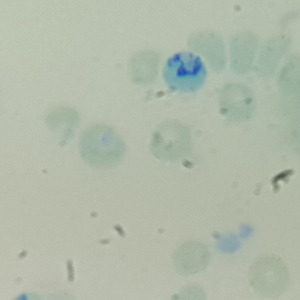aggregate reticulocyte: (163, 51, 208, 94)
erythrocyte: (79, 122, 127, 167), (148, 117, 194, 163), (248, 254, 291, 300), (215, 82, 257, 123), (172, 240, 213, 279), (45, 106, 82, 142), (127, 48, 162, 86)
punctate reticulocyte: (186, 29, 230, 75), (258, 33, 295, 78), (228, 30, 261, 75)
